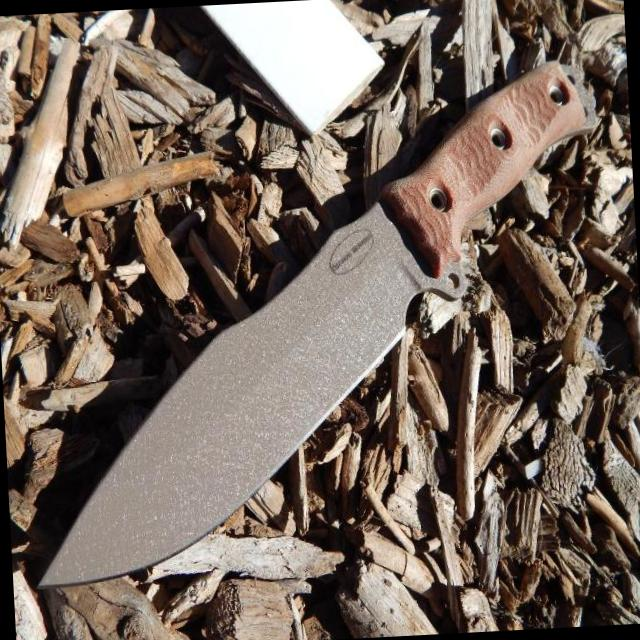Knife: (41, 63, 589, 586)
